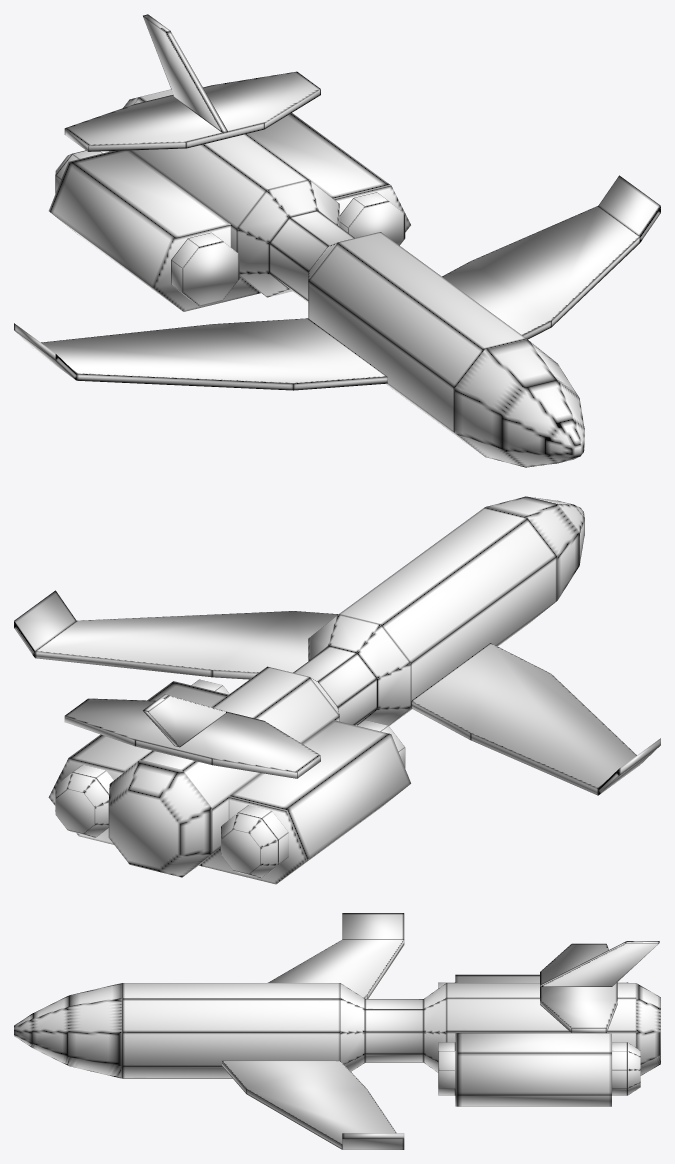
The model's file is ichthyosaur.obj.
The picture shows the model from 3 angles, top to bottom: view 1: azimuth 30°, elevation 25°; view 2: azimuth 150°, elevation 25°; view 3: azimuth 270°, elevation 25°; orthographic projection. The views are drawn at different scales.
Parts seen in each view (by area): view 1: body, enginel, wingl, wingr, tail, enginer; view 2: body, enginel, wingl, wingr, tail, enginer; view 3: body, enginer, wingr, tail, wingl, enginel.
Part boxes in pixels (x1=…): body: x1=108, y1=89, x2=584, y2=467; enginel: x1=48, y1=150, x2=260, y2=311; wingl: x1=14, y1=318, x2=387, y2=390; wingr: x1=442, y1=175, x2=660, y2=339; tail: x1=64, y1=14, x2=320, y2=151; enginer: x1=247, y1=113, x2=410, y2=245; body: x1=108, y1=496, x2=584, y2=877; enginel: x1=199, y1=720, x2=410, y2=884; wingl: x1=411, y1=643, x2=660, y2=795; wingr: x1=14, y1=590, x2=337, y2=679; tail: x1=64, y1=694, x2=320, y2=778; enginer: x1=48, y1=679, x2=229, y2=844; body: x1=14, y1=983, x2=660, y2=1078; enginer: x1=438, y1=1033, x2=640, y2=1106; wingr: x1=222, y1=1060, x2=404, y2=1149; tail: x1=540, y1=941, x2=659, y2=1032; wingl: x1=268, y1=913, x2=404, y2=998; enginel: x1=438, y1=974, x2=628, y2=988.
Bounding box in the file's own units: 28.1 × 7.66 × 34.9.
1 material, 1 textured.
